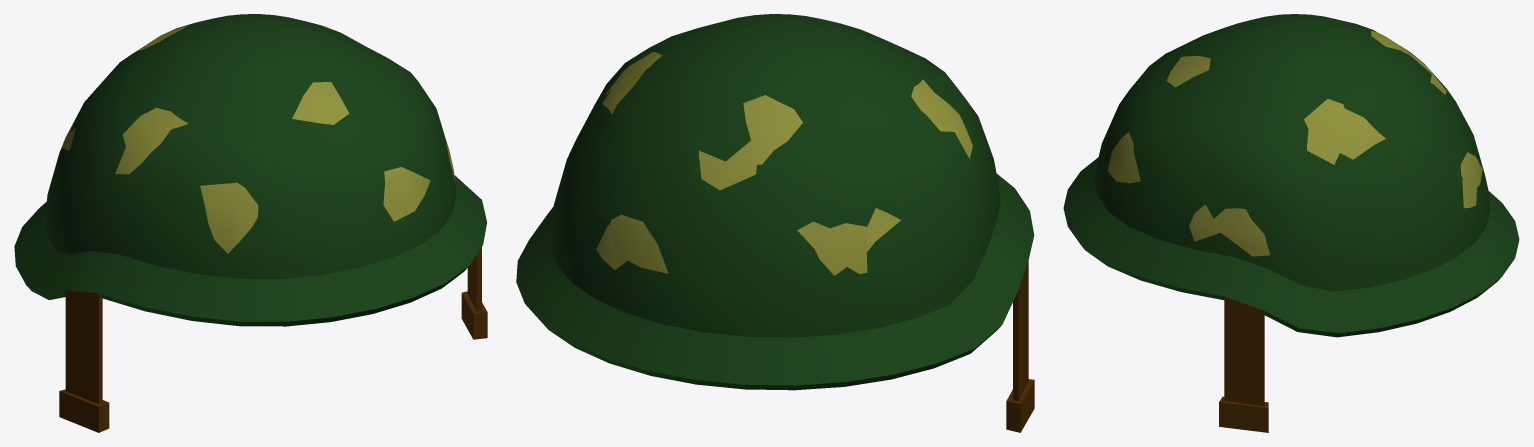
The model's file is SimpleTexture.fbx.
The picture shows the model from 3 angles, left to right: view 1: azimuth 30°, elevation 25°; view 2: azimuth 150°, elevation 25°; view 3: azimuth 270°, elevation 25°; orthographic projection. The views are drawn at different scales.
Visible parts, largest first — view 1: Sphere; view 2: Sphere; view 3: Sphere.
Part boxes in pixels (bbox=[...]): Sphere: bbox=[14, 14, 487, 432]; Sphere: bbox=[516, 14, 1034, 432]; Sphere: bbox=[1063, 14, 1519, 432].
Bounding box in the file's own units: 81.83 × 60.59 × 82.37.
